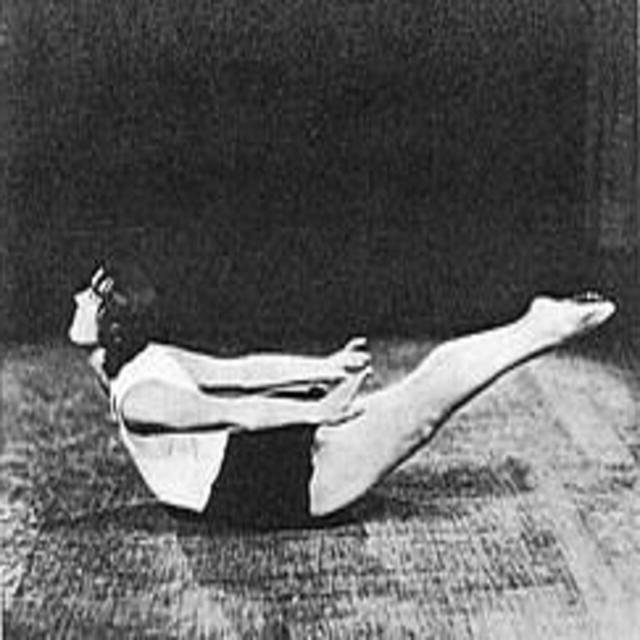Locust_Pose: (61, 264, 614, 519)
